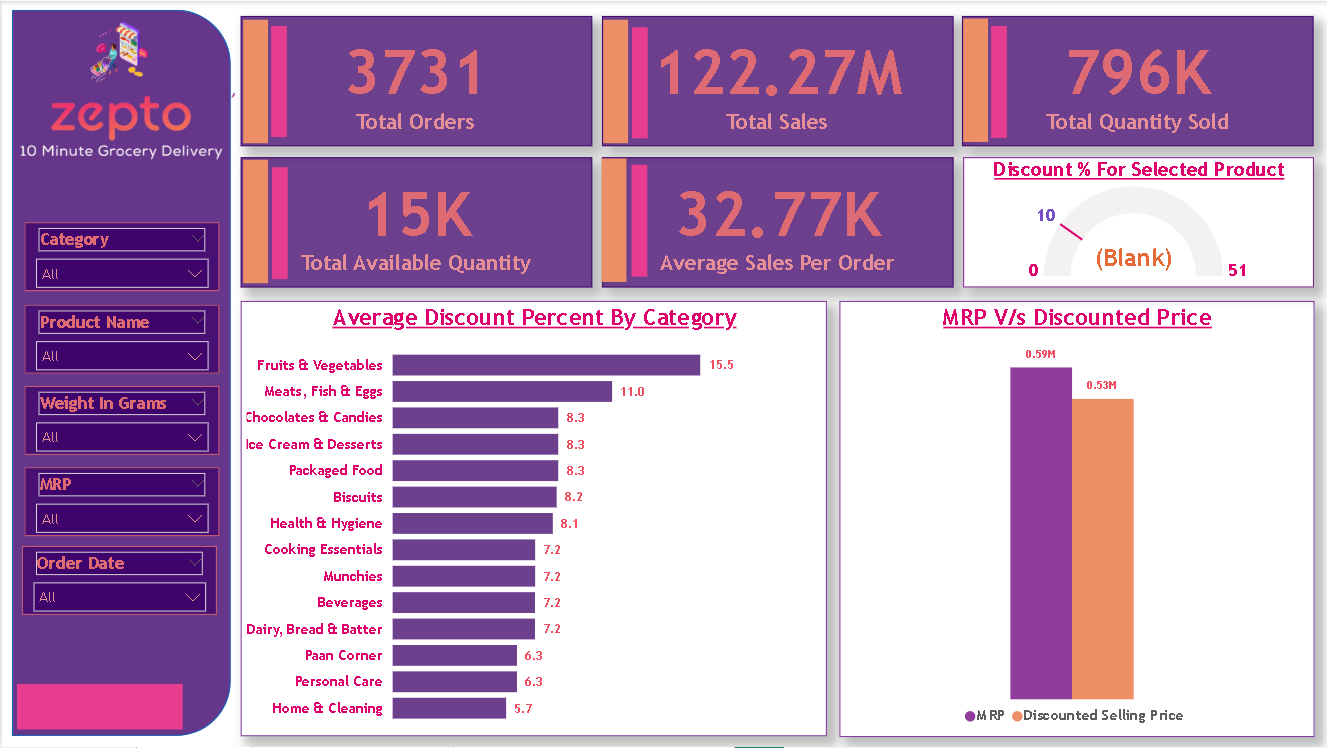

This screenshot's page, from the dashboard's own definition file:
{"tool":"powerbi","page":{"name":"Overview","canvas":[1280,720],"ordinal":0},"visuals":[{"type":"textbox","box":[7.8,0,280,280],"z":0},{"type":"shape","box":[9.7,8.4,211.1,700.9],"z":1000},{"type":"card","title":"Total Orders","fields":{"Values":["zepto dataset.total orders"]},"box":[230.4,14.5,339,125.5],"z":2000},{"type":"card","title":"Total Orders","fields":{"Values":["Sum(zepto dataset.Total Sales)"]},"box":[579.1,14.5,339,125.5],"z":3000},{"type":"card","title":"Total Orders","fields":{"Values":["Sum(zepto dataset.quantity)"]},"box":[926.5,14.5,339,125.5],"z":4000},{"type":"slicer","fields":{"Values":["zepto dataset.Category"]},"box":[21.7,213.5,188.2,66.4],"z":5000},{"type":"slicer","fields":{"Values":["zepto dataset.name"]},"box":[21.7,293.2,188.2,66.4],"z":6000},{"type":"slicer","fields":{"Values":["zepto dataset.weightInGms"]},"box":[21.7,371.6,188.2,66.4],"z":7000},{"type":"slicer","fields":{"Values":["zepto dataset.mrp"]},"box":[21.7,450,188.2,66.4],"z":8000},{"type":"card","title":"Total Orders","fields":{"Values":["Avg(zepto dataset.Total Sales)"]},"box":[579.1,150.8,339,125.5],"z":9000},{"type":"card","title":"Total Orders","fields":{"Values":["Sum(zepto dataset.availableQuantity)"]},"box":[230.4,150.8,339,125.5],"z":10000},{"type":"barChart","title":"Average Discount Percent By Category","fields":{"Category":["zepto dataset.Category"],"Y":["Measures Table.Avg Discount Percent"]},"box":[230.5,289.5,565.4,419.9],"z":11000},{"type":"clusteredColumnChart","title":"MRP V/s Discounted Price","fields":{"Y":["Sum(zepto dataset.mrp)","Sum(zepto dataset.discountedSellingPrice)"]},"box":[808.2,289.2,458.2,421.1],"z":12000},{"type":"gauge","title":"Discount  % For Selected Product","fields":{"Y":["Measures Table.Discount Percent value"]},"box":[927.2,150.6,338.3,125.9],"z":13000},{"type":"image","box":[0,50,230,151.2],"z":14000},{"type":"image","box":[227.8,13.7,34.3,129],"z":15000},{"type":"image","box":[575,13.7,34.3,129],"z":16000},{"type":"image","box":[918,12.3,43.9,129],"z":17000},{"type":"image","box":[220.9,148.2,48,129],"z":18000},{"type":"image","box":[573.6,146.8,35.7,129],"z":19000},{"type":"image","box":[251.1,19.2,32.9,116.6],"z":20000},{"type":"image","box":[601,20.6,30.2,116.6],"z":21000},{"type":"image","box":[945.5,19.2,32.9,118],"z":22000},{"type":"image","box":[251.1,155.1,34.3,118],"z":23000},{"type":"image","box":[602.4,153.7,26.1,118],"z":24000},{"type":"image","box":[10,652.5,170,57.5],"z":25000},{"type":"image","box":[13.8,15,201.2,70],"z":26000},{"type":"slicer","fields":{"Values":["zepto dataset.order date"]},"box":[19.3,526,188.2,66.4],"z":27000}]}

Visuals, with their boxes in screenshot pixels (x1, y1, x2, y2), scaled from the page's 1280x720 canvas onto the 1327x748 screenshot:
textbox: BBox(8, 0, 298, 291)
shape: BBox(10, 9, 229, 737)
"Total Orders" card: BBox(239, 15, 590, 145)
"Total Orders" card: BBox(600, 15, 952, 145)
"Total Orders" card: BBox(961, 15, 1312, 145)
slicer - zepto dataset.Category: BBox(22, 222, 218, 291)
slicer - zepto dataset.name: BBox(22, 305, 218, 374)
slicer - zepto dataset.weightInGms: BBox(22, 386, 218, 455)
slicer - zepto dataset.mrp: BBox(22, 468, 218, 536)
"Total Orders" card: BBox(600, 157, 952, 287)
"Total Orders" card: BBox(239, 157, 590, 287)
"Average Discount Percent By Category" barChart: BBox(239, 301, 825, 737)
"MRP V/s Discounted Price" clusteredColumnChart: BBox(838, 300, 1313, 738)
"Discount  % For Selected Product" gauge: BBox(961, 156, 1312, 287)
image: BBox(0, 52, 238, 209)
image: BBox(236, 14, 272, 148)
image: BBox(596, 14, 632, 148)
image: BBox(952, 13, 997, 147)
image: BBox(229, 154, 279, 288)
image: BBox(595, 153, 632, 287)
image: BBox(260, 20, 294, 141)
image: BBox(623, 21, 654, 143)
image: BBox(980, 20, 1014, 143)
image: BBox(260, 161, 296, 284)
image: BBox(625, 160, 652, 282)
image: BBox(10, 678, 187, 738)
image: BBox(14, 16, 223, 88)
slicer - zepto dataset.order date: BBox(20, 546, 215, 615)
